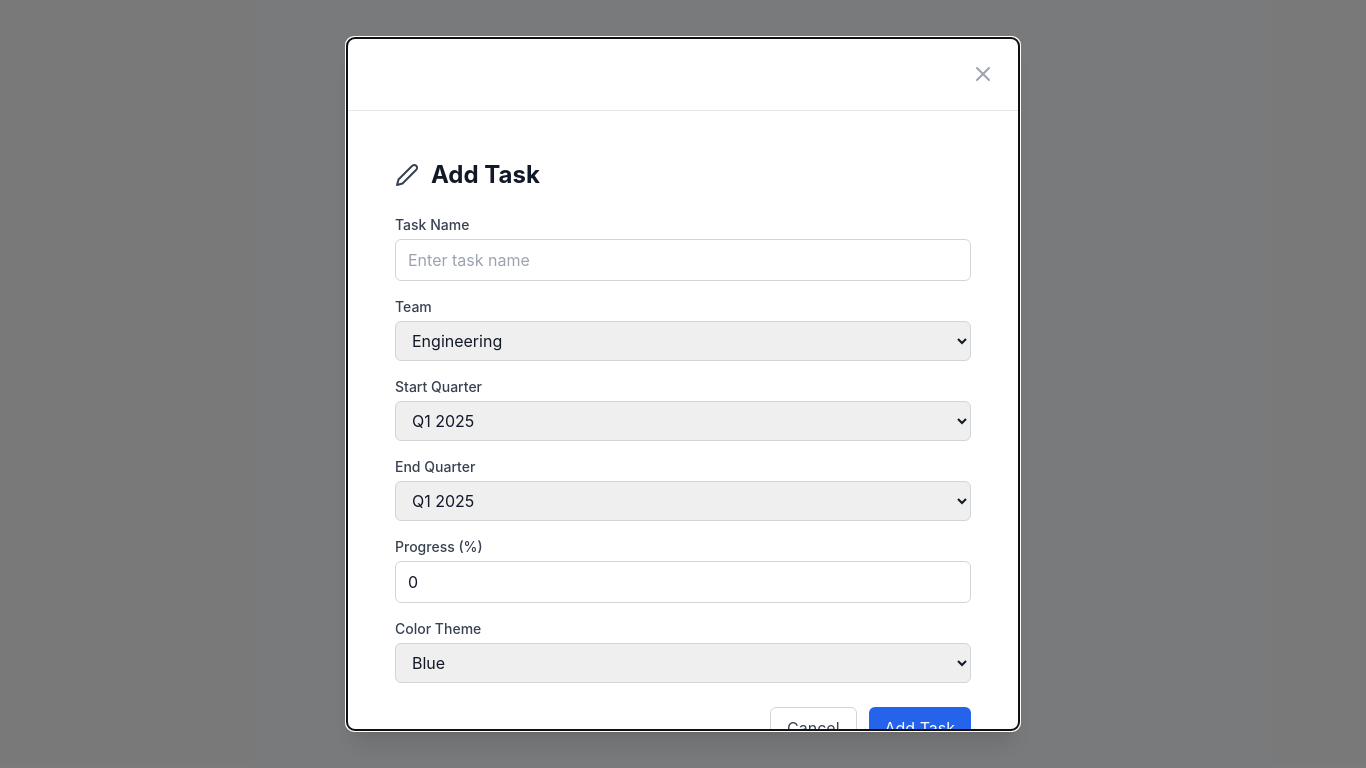
TaskModal › Validation › shows error when start quarter is after end quarter
Type "Test Task" into the field labelled "Task Name" at (683, 260), box [395,239,971,281]
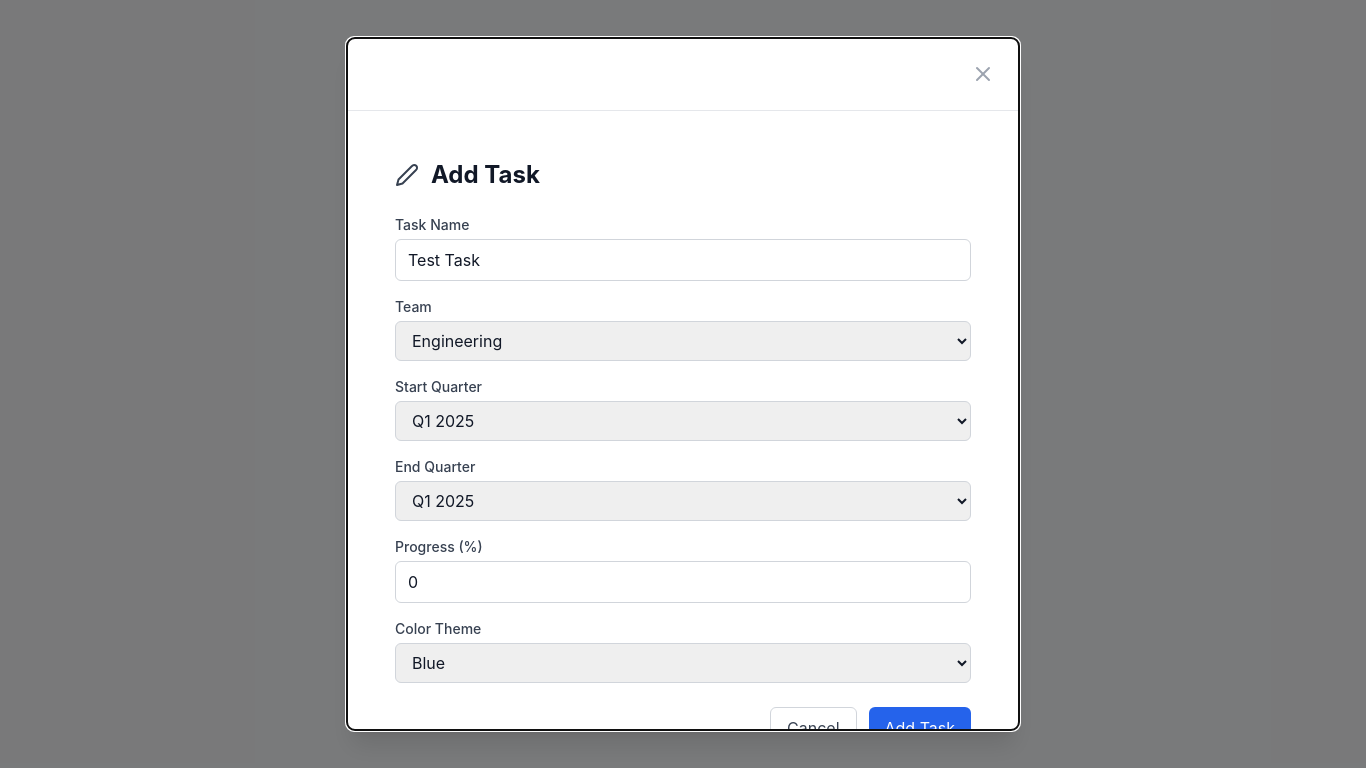
Select "Q4 2025" in the dropdown labelled "Start Quarter" at (683, 421), box [395,401,971,441]
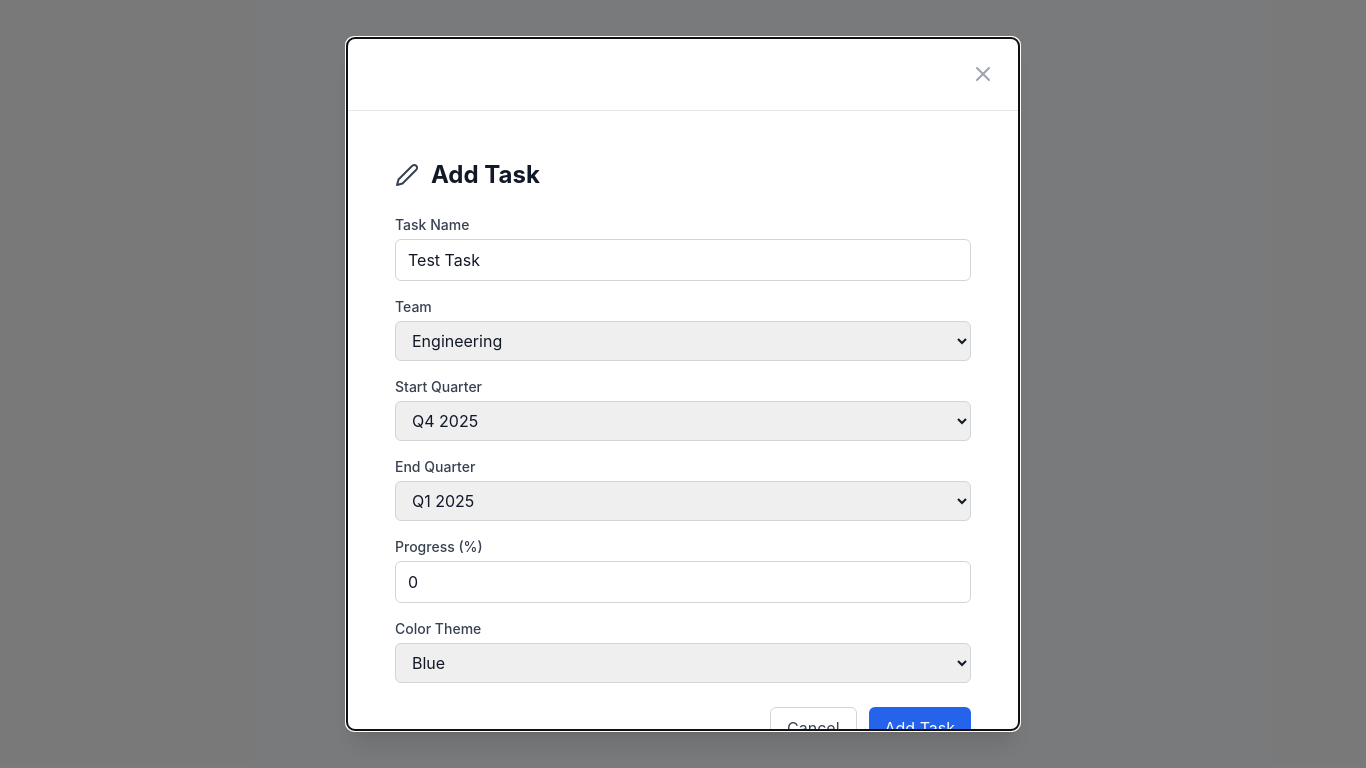
Select "Q1 2025" in the dropdown labelled "End Quarter" at (683, 501), box [395,481,971,521]
Click the button "Add Task" at (920, 728), box [868,707,971,749]
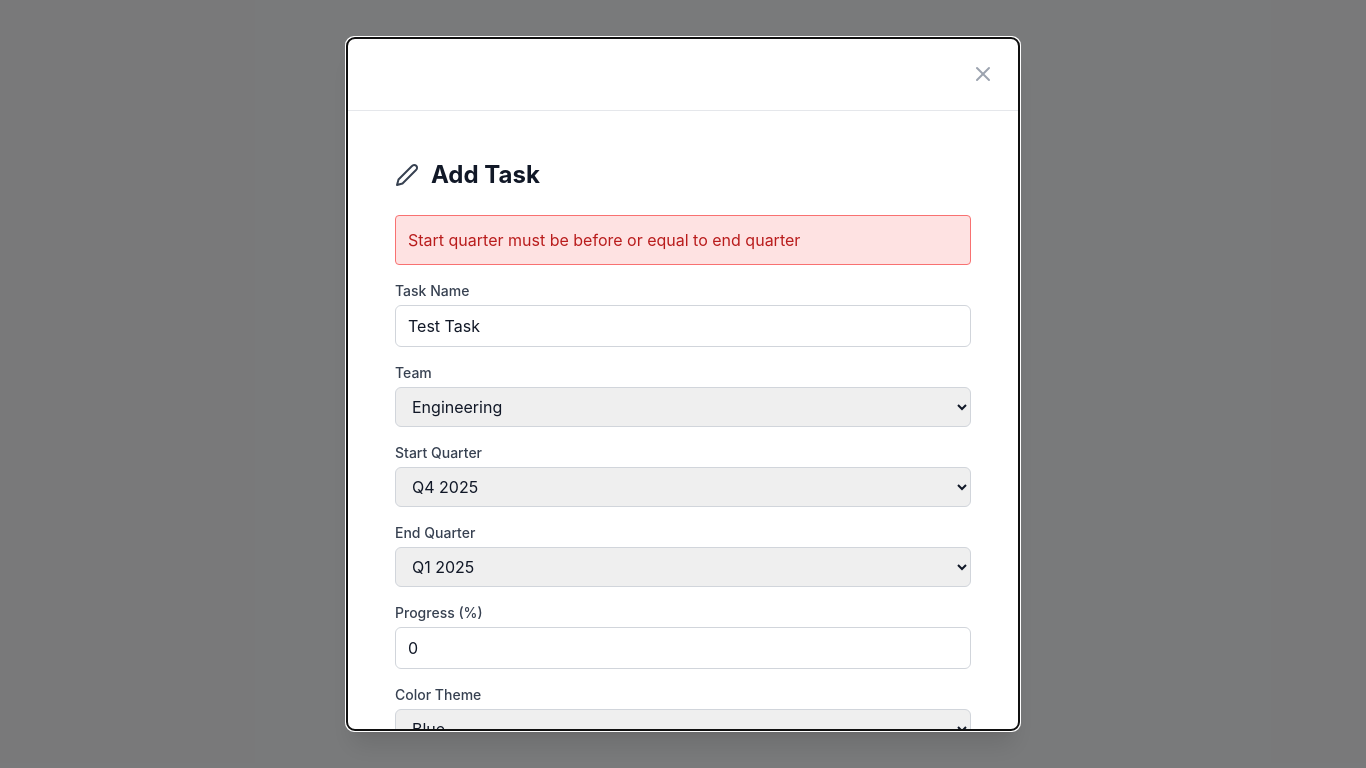
Result: the text "Start quarter must be before or equal to end quarter" is shown at [395,215,971,265]
